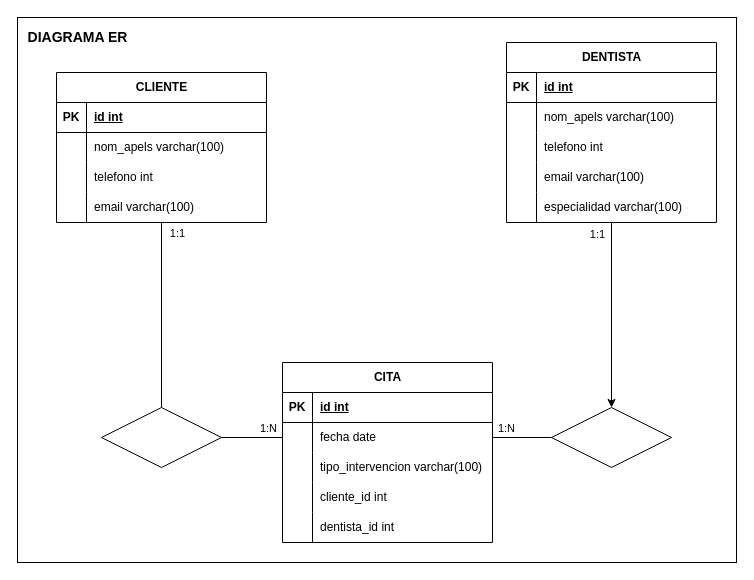
This 754x580 diagram has some shape labels left out. Here are the shapes that lost their labels. From the top down, the centre of each, then its label:
At [161,437]: "forma parte".
At [611,437]: "es de".
